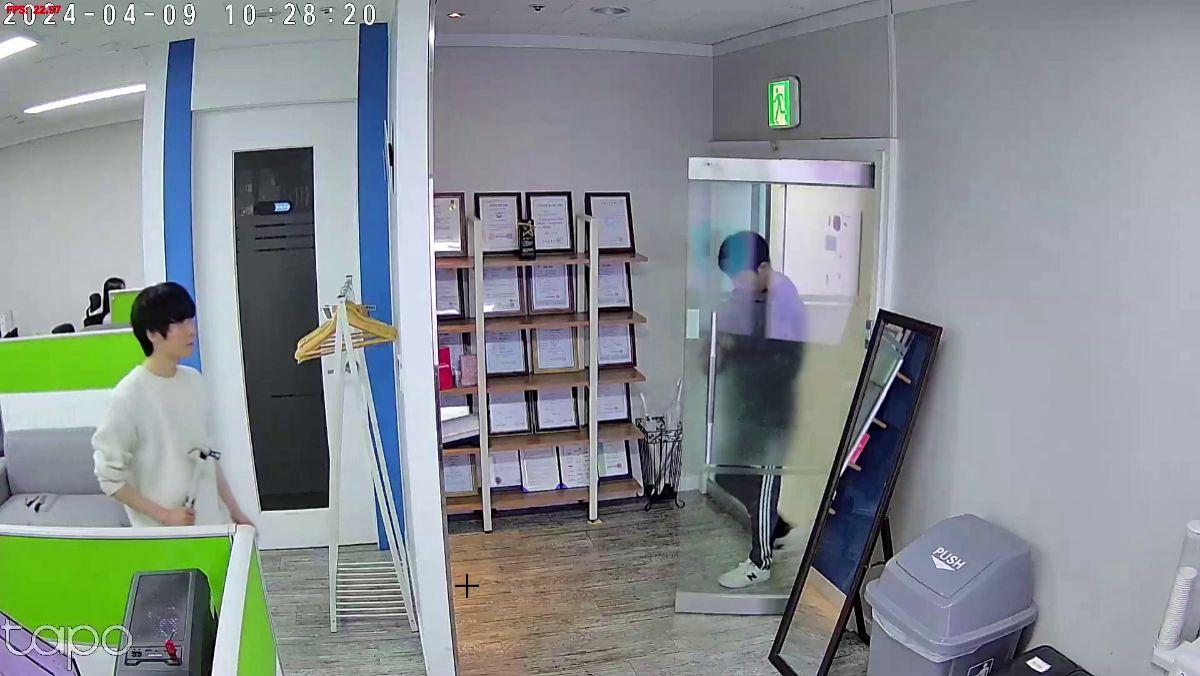hammer: (175, 440, 226, 522)
